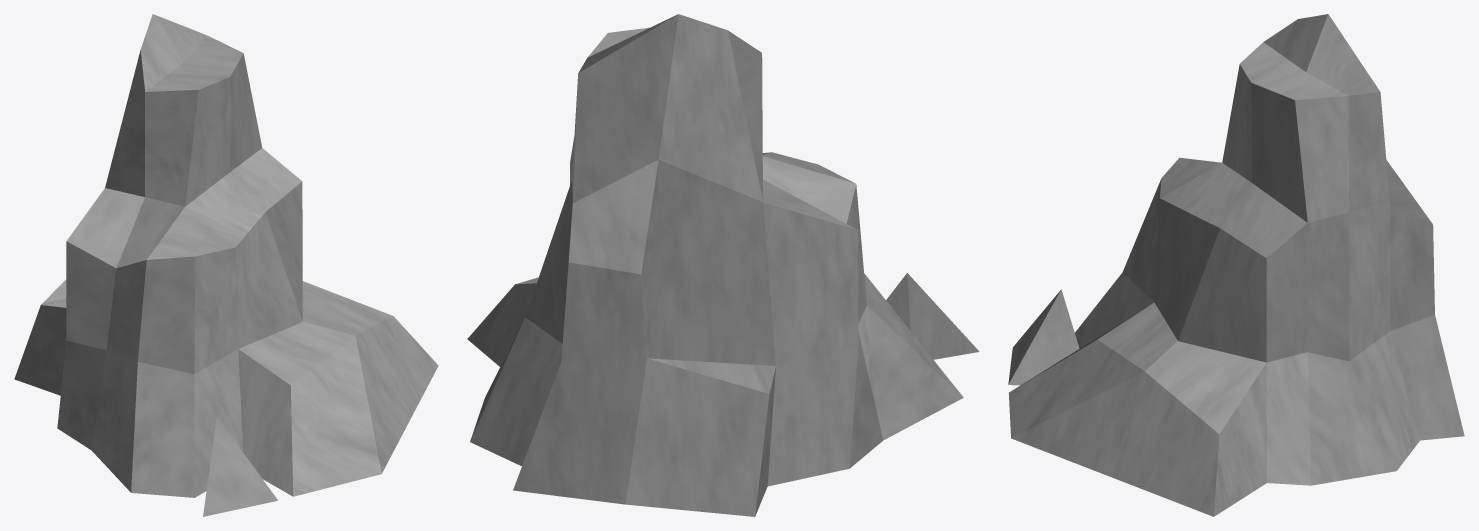
Rendered from real_stone_4.fbx.
3 views of the same model, side by side, from view 1: azimuth 30°, elevation 25°; view 2: azimuth 150°, elevation 25°; view 3: azimuth 270°, elevation 25° (orthographic). The views are drawn at different scales.
Parts seen in each view (by area): view 1: Stone_2; view 2: Stone_2; view 3: Stone_2.
Boxes of the visible parts, x1=… form: Stone_2: x1=14, y1=14, x2=438, y2=516; Stone_2: x1=467, y1=14, x2=979, y2=516; Stone_2: x1=1008, y1=14, x2=1464, y2=516.
Bounding box in the file's own units: 348 × 339 × 364.
Materials: 1 (1 with a texture image).
